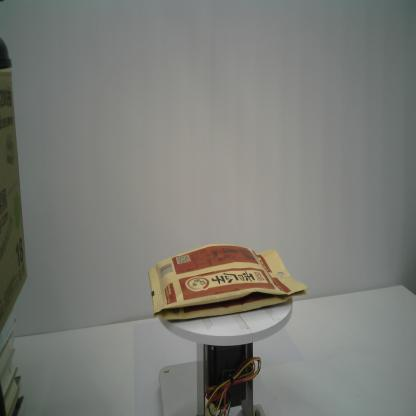Dried Food: (148, 244, 309, 320)
